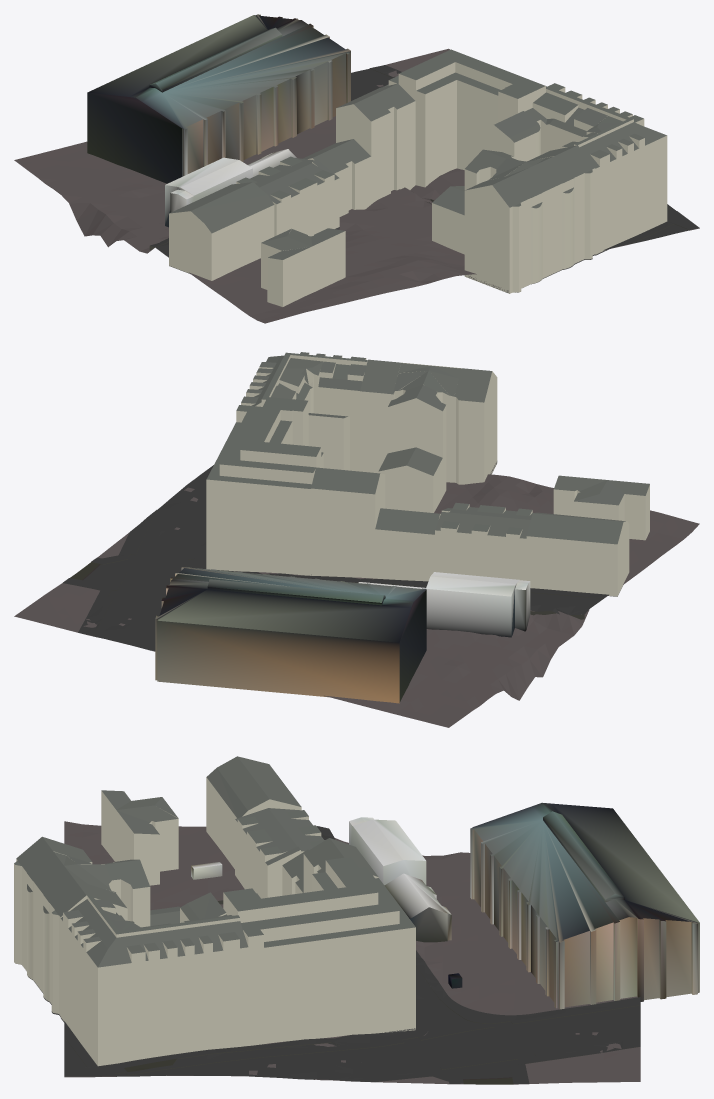
3 views of the same model, one above another, from view 1: azimuth 30°, elevation 25°; view 2: azimuth 150°, elevation 25°; view 3: azimuth 270°, elevation 25° (orthographic). The views are drawn at different scales.
Visible parts, largest first — view 1: c_m09_p10; view 2: c_m09_p10; view 3: c_m09_p10.
Boxes of the visible parts, x1,y1,x2,y2 form: c_m09_p10: (14,14,699,323); c_m09_p10: (14,352,699,727); c_m09_p10: (14,756,699,1084).
Size of the model in its own units: 130 by 39.46 by 152.
